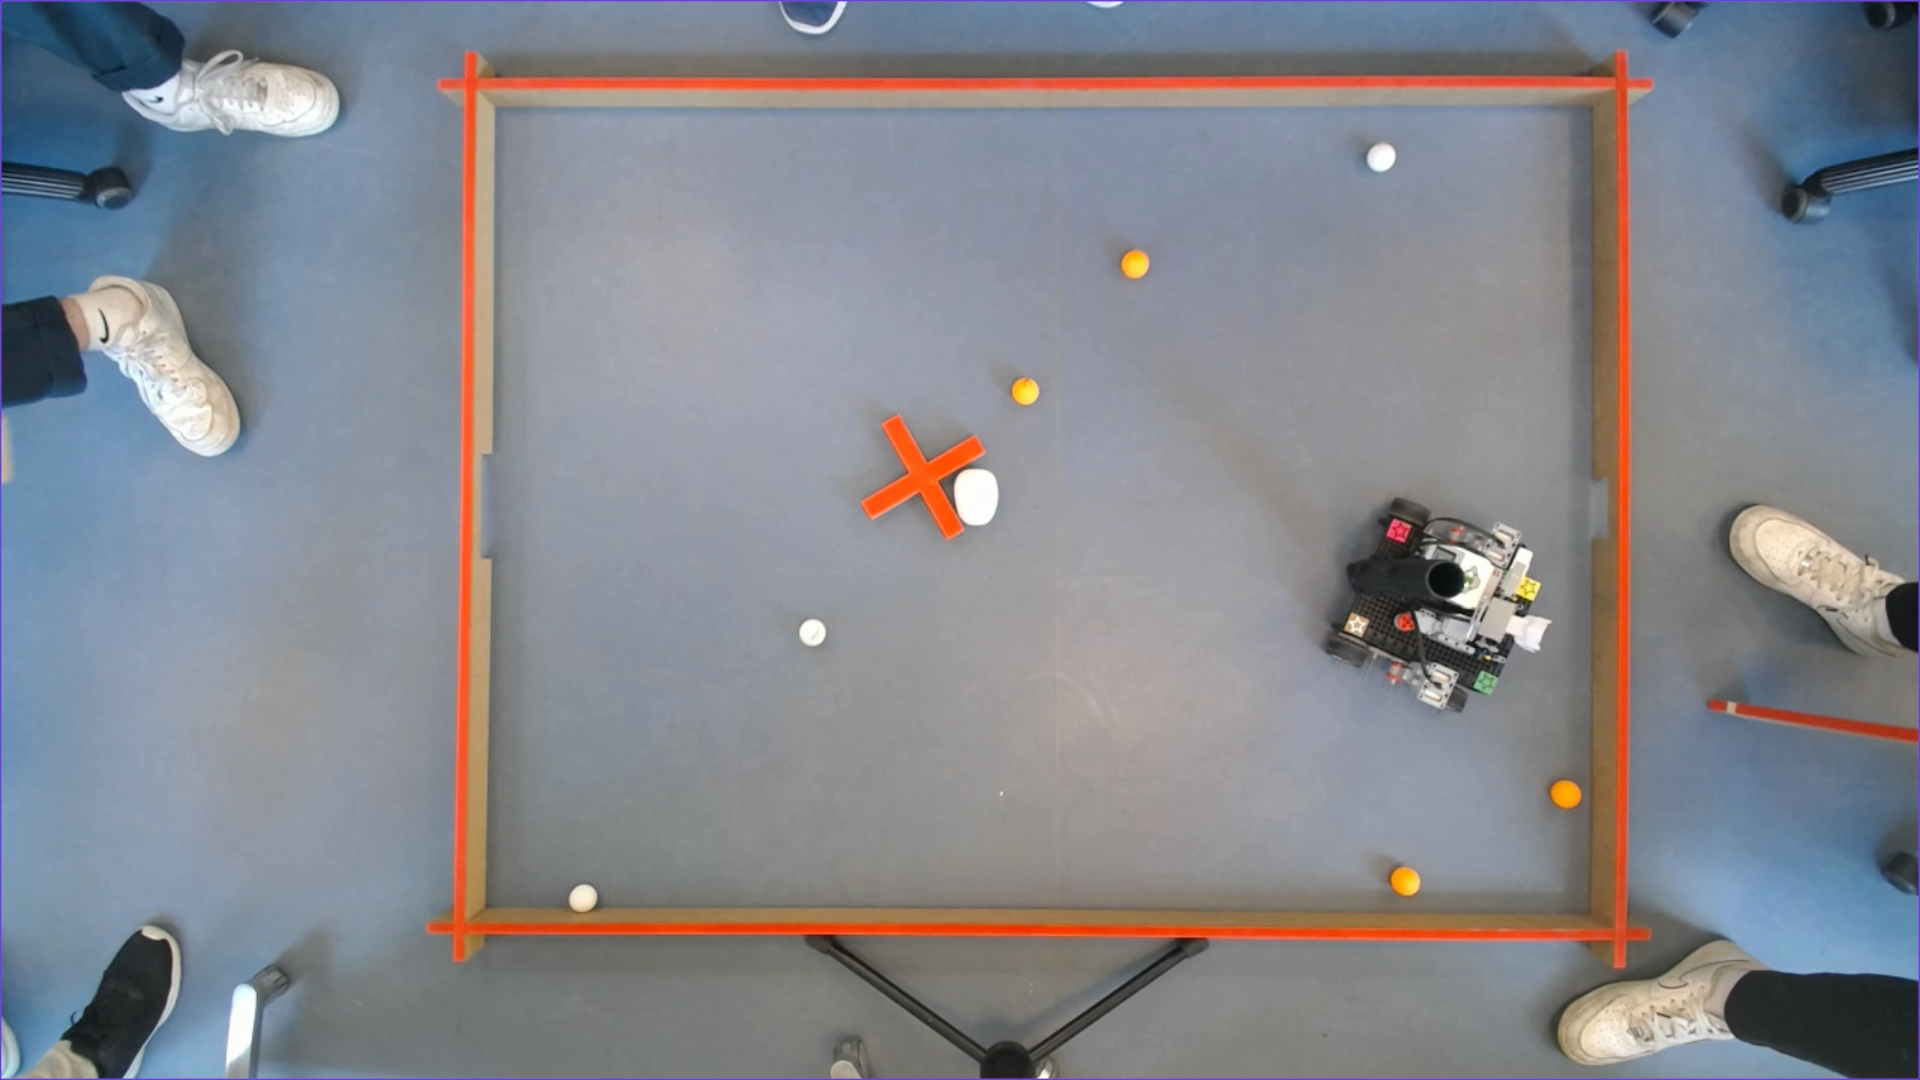ball_orange: (1551, 778, 1582, 812), (1391, 866, 1422, 901), (1120, 249, 1149, 281), (1009, 376, 1040, 405)
ball_white: (1362, 140, 1396, 175), (794, 617, 825, 647), (570, 882, 595, 914)
corner_brown: (1342, 611, 1370, 641)
corner_green: (1474, 670, 1495, 696)
corner_pink: (1386, 520, 1411, 545)
corner_yellow: (1518, 575, 1540, 601)
cross: (858, 415, 984, 545)
egg: (953, 469, 1001, 526)
playfield: (455, 76, 1629, 938)
